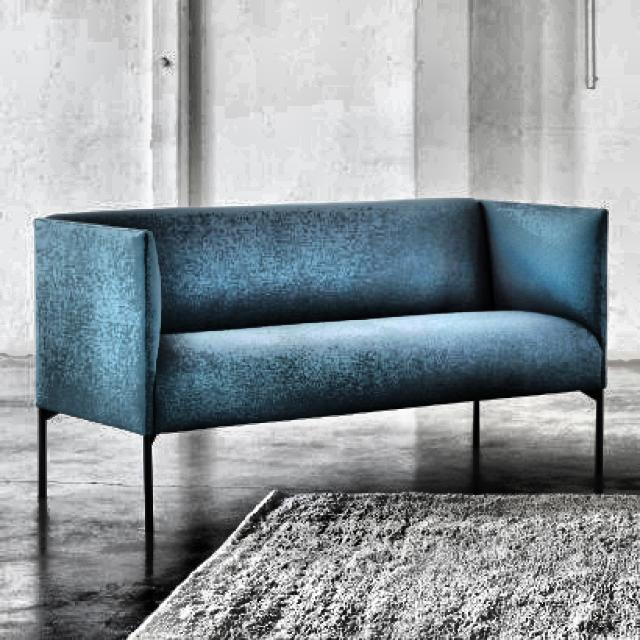sofa: (31, 195, 609, 532)
